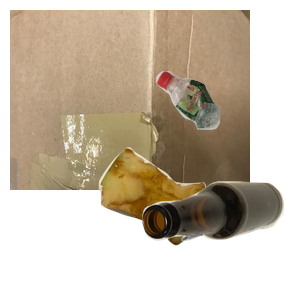cardboard: (10, 10, 250, 190)
glass: (140, 179, 300, 300)
plastic: (153, 68, 300, 190)
trash: (96, 145, 295, 300)
